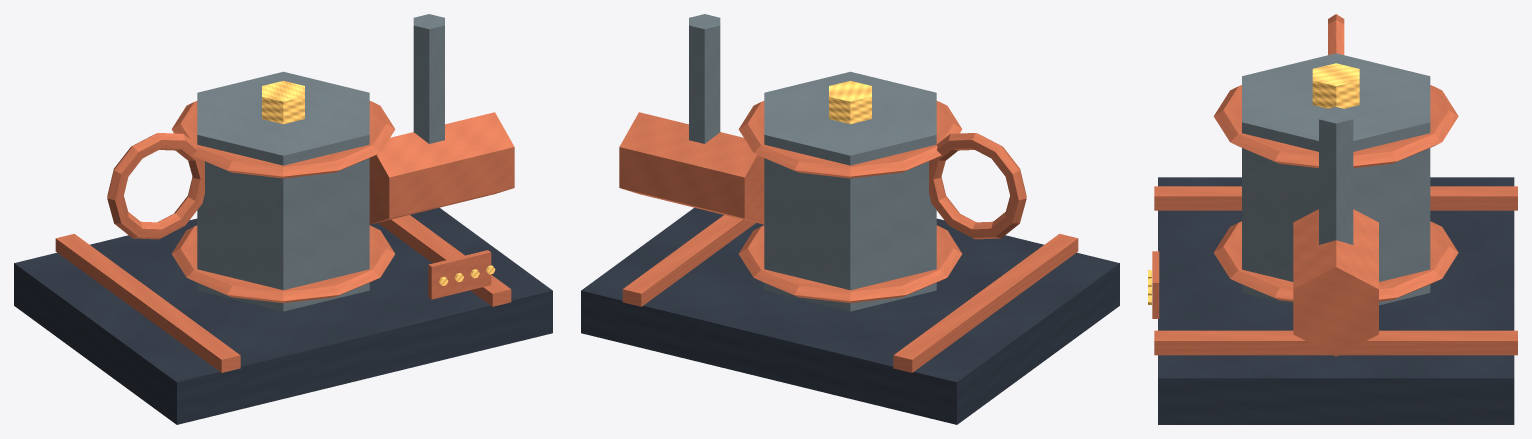
File: atlas100-s030-a01.glb
3 renders of one model, left to right at view 1: azimuth 30°, elevation 25°; view 2: azimuth 150°, elevation 25°; view 3: azimuth 270°, elevation 25°, orthographic. The views are drawn at different scales.
Parts seen in each view (by area): view 1: atlas100-s030-a01:part-000, atlas100-s030-a01:part-003, atlas100-s030-a01:part-007, atlas100-s030-a01:part-001, atlas100-s030-a01:part-004, atlas100-s030-a01:part-005, atlas100-s030-a01:part-009, atlas100-s030-a01:part-008, atlas100-s030-a01:part-002, atlas100-s030-a01:part-010, atlas100-s030-a01:part-006; view 2: atlas100-s030-a01:part-000, atlas100-s030-a01:part-003, atlas100-s030-a01:part-007, atlas100-s030-a01:part-001, atlas100-s030-a01:part-004, atlas100-s030-a01:part-005, atlas100-s030-a01:part-009, atlas100-s030-a01:part-008, atlas100-s030-a01:part-002, atlas100-s030-a01:part-006; view 3: atlas100-s030-a01:part-000, atlas100-s030-a01:part-003, atlas100-s030-a01:part-007, atlas100-s030-a01:part-002, atlas100-s030-a01:part-005, atlas100-s030-a01:part-008, atlas100-s030-a01:part-001, atlas100-s030-a01:part-004, atlas100-s030-a01:part-006, atlas100-s030-a01:part-009, atlas100-s030-a01:part-010.
Boxes of the visible parts, left/top/right/bottom form: atlas100-s030-a01:part-000: left=14, top=207, right=552, bottom=424; atlas100-s030-a01:part-003: left=197, top=71, right=369, bottom=311; atlas100-s030-a01:part-007: left=369, top=112, right=514, bottom=224; atlas100-s030-a01:part-001: left=55, top=233, right=240, bottom=372; atlas100-s030-a01:part-004: left=172, top=225, right=394, bottom=302; atlas100-s030-a01:part-005: left=171, top=101, right=395, bottom=178; atlas100-s030-a01:part-009: left=107, top=133, right=204, bottom=239; atlas100-s030-a01:part-008: left=413, top=14, right=444, bottom=143; atlas100-s030-a01:part-002: left=378, top=215, right=511, bottom=306; atlas100-s030-a01:part-010: left=428, top=250, right=491, bottom=299; atlas100-s030-a01:part-006: left=262, top=81, right=304, bottom=124; atlas100-s030-a01:part-000: left=581, top=207, right=1119, bottom=424; atlas100-s030-a01:part-003: left=764, top=71, right=936, bottom=311; atlas100-s030-a01:part-007: left=619, top=112, right=764, bottom=224; atlas100-s030-a01:part-001: left=893, top=233, right=1078, bottom=372; atlas100-s030-a01:part-004: left=739, top=225, right=961, bottom=302; atlas100-s030-a01:part-005: left=738, top=101, right=962, bottom=178; atlas100-s030-a01:part-009: left=929, top=133, right=1026, bottom=239; atlas100-s030-a01:part-008: left=689, top=14, right=720, bottom=143; atlas100-s030-a01:part-002: left=622, top=215, right=755, bottom=306; atlas100-s030-a01:part-006: left=829, top=81, right=871, bottom=124; atlas100-s030-a01:part-000: left=1158, top=177, right=1514, bottom=424; atlas100-s030-a01:part-003: left=1242, top=53, right=1430, bottom=305; atlas100-s030-a01:part-007: left=1293, top=209, right=1378, bottom=356; atlas100-s030-a01:part-002: left=1154, top=330, right=1517, bottom=355; atlas100-s030-a01:part-005: left=1213, top=85, right=1458, bottom=168; atlas100-s030-a01:part-008: left=1319, top=107, right=1353, bottom=244; atlas100-s030-a01:part-001: left=1154, top=186, right=1517, bottom=210; atlas100-s030-a01:part-004: left=1213, top=221, right=1458, bottom=301; atlas100-s030-a01:part-006: left=1312, top=63, right=1359, bottom=108; atlas100-s030-a01:part-009: left=1328, top=14, right=1344, bottom=54; atlas100-s030-a01:part-010: left=1152, top=251, right=1159, bottom=318.
Bounding box in the file's own units: 2.55 × 1.6 × 1.87.
4 materials, 4 textured.
